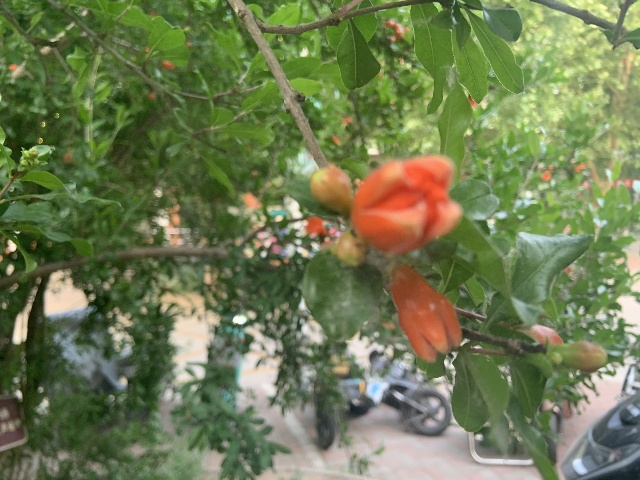bud: (310, 165, 352, 214), (557, 340, 607, 371), (521, 323, 563, 344)
flower: (351, 157, 462, 255), (386, 264, 462, 361), (304, 216, 325, 234)
